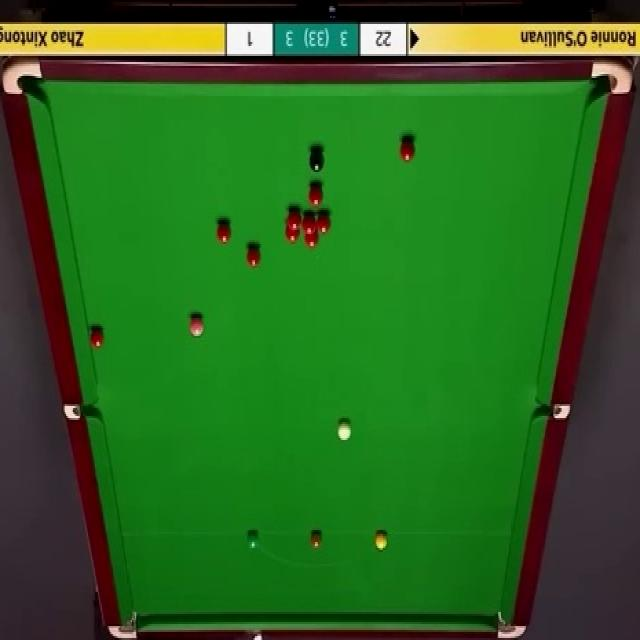pocket: (590, 58, 633, 97), (4, 60, 45, 97), (106, 608, 140, 640), (496, 611, 531, 640), (533, 403, 572, 423), (65, 403, 99, 422)
